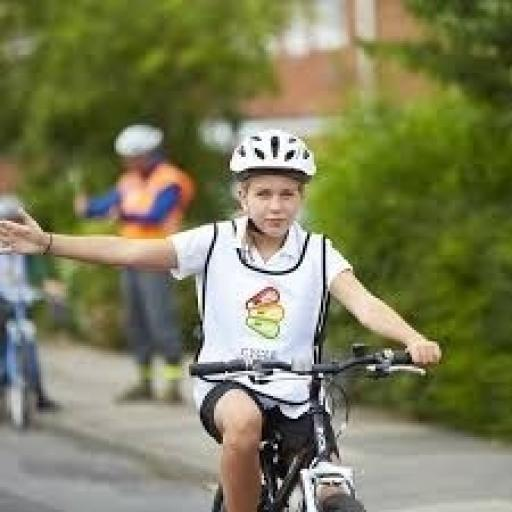cycling: (0, 125, 448, 509), (0, 136, 61, 423)
